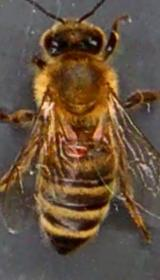varroa_mite: (55, 136, 91, 166)
